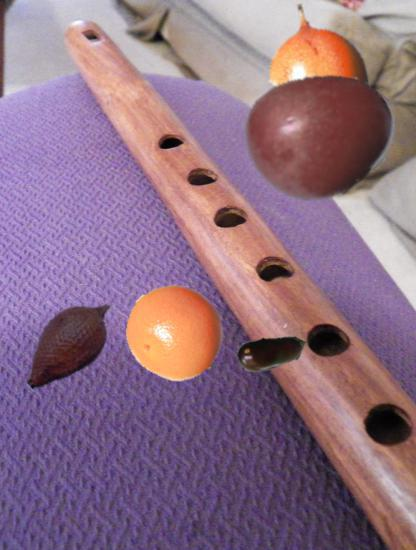Cherry: (245, 57, 395, 207)
Eggplant: (235, 314, 311, 390)
Granadilla: (247, 2, 385, 140)
Grapefruit: (125, 283, 225, 383)
Salak: (11, 286, 127, 402)
